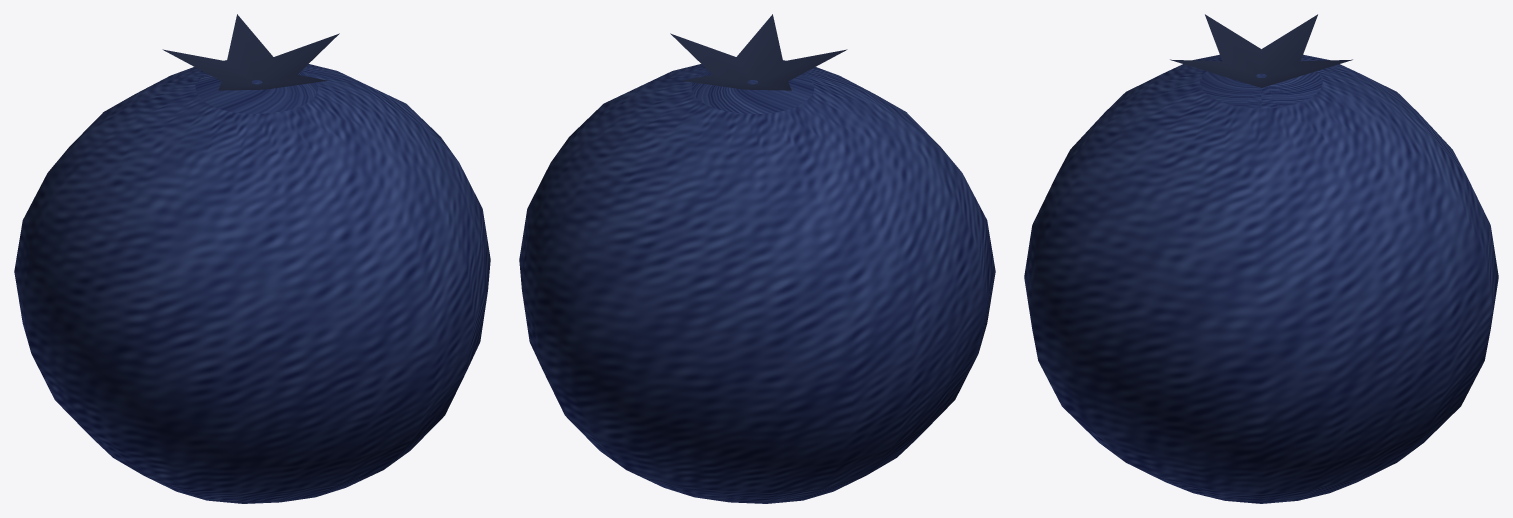
File: stamina_berry_pickup.glb
3 renders of one model, left to right at view 1: azimuth 30°, elevation 25°; view 2: azimuth 150°, elevation 25°; view 3: azimuth 270°, elevation 25°, orthographic.
Visible parts, largest first — view 1: stamina_berry_pickup; view 2: stamina_berry_pickup; view 3: stamina_berry_pickup.
Boxes of the visible parts, x1,y1,x2,y2 form: stamina_berry_pickup: [14, 14, 490, 503]; stamina_berry_pickup: [519, 14, 995, 503]; stamina_berry_pickup: [1024, 14, 1498, 503].
Bounding box in the file's own units: 0.0225 × 0.0222 × 0.0221.
Materials: 2 (1 with a texture image).
